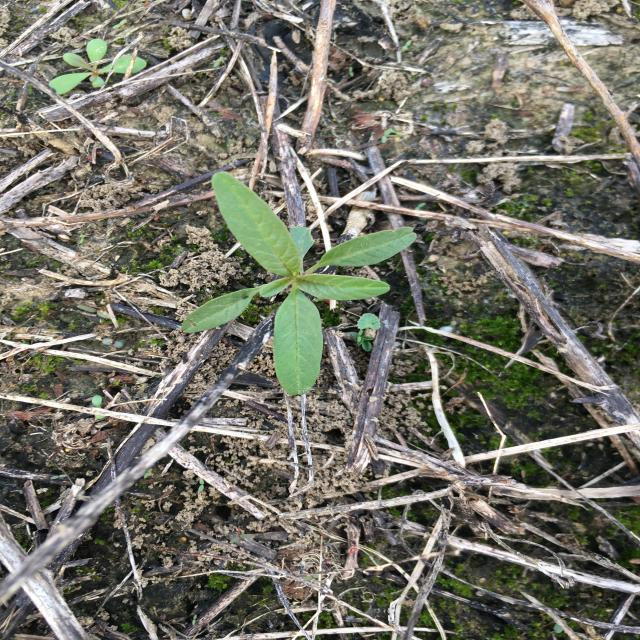Carpetweed: (42, 36, 149, 97)
Waterhemp: (178, 170, 418, 400)
